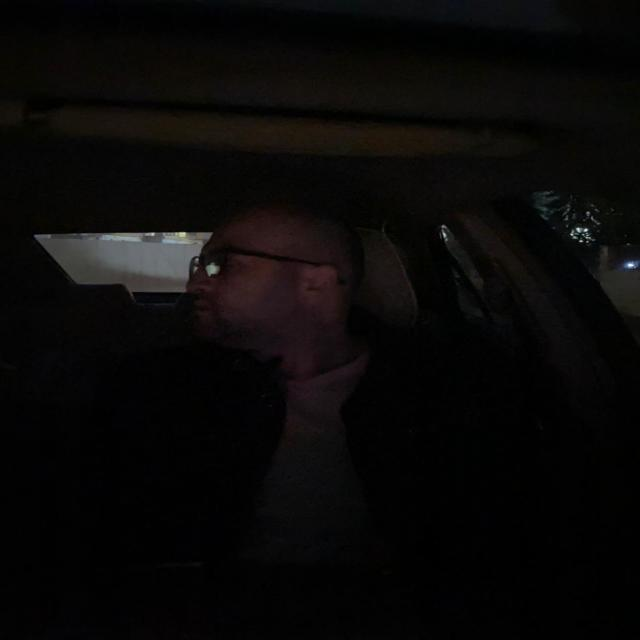LeftRight: (176, 195, 378, 372)
